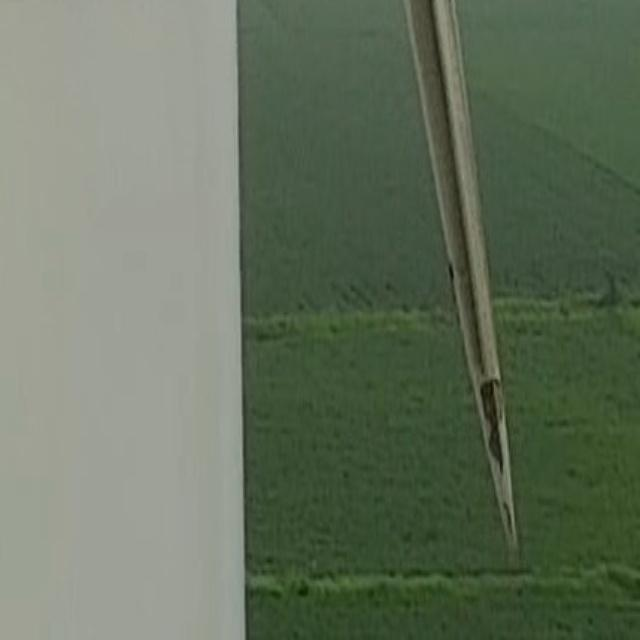PU-tape: (481, 383, 504, 456)
